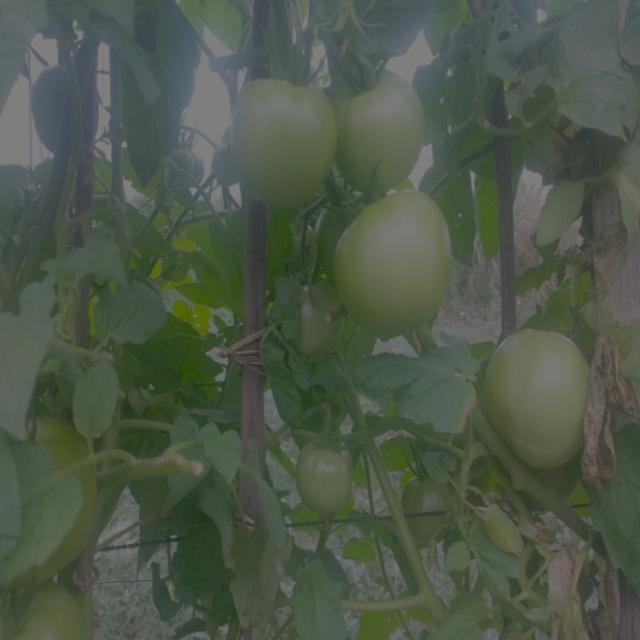tomato: (332, 184, 453, 340), (479, 325, 598, 467), (227, 68, 337, 212), (9, 416, 106, 571), (345, 58, 431, 191), (30, 60, 100, 159), (296, 429, 359, 517), (13, 583, 101, 640), (407, 470, 457, 545)
